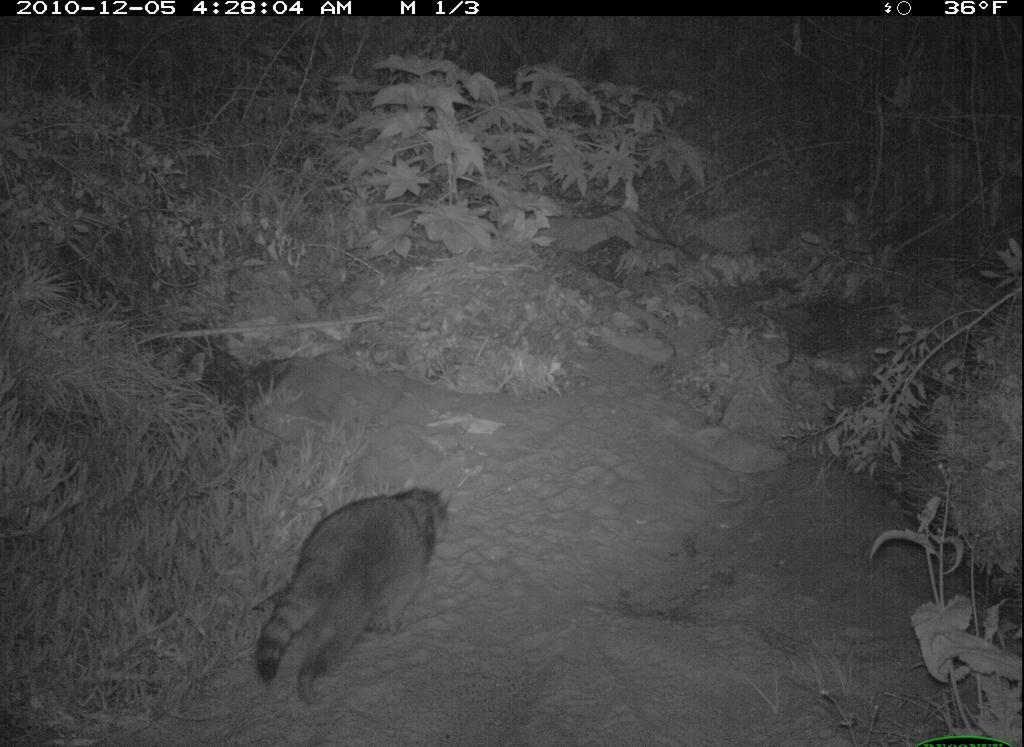raccoon: (228, 474, 505, 707)
